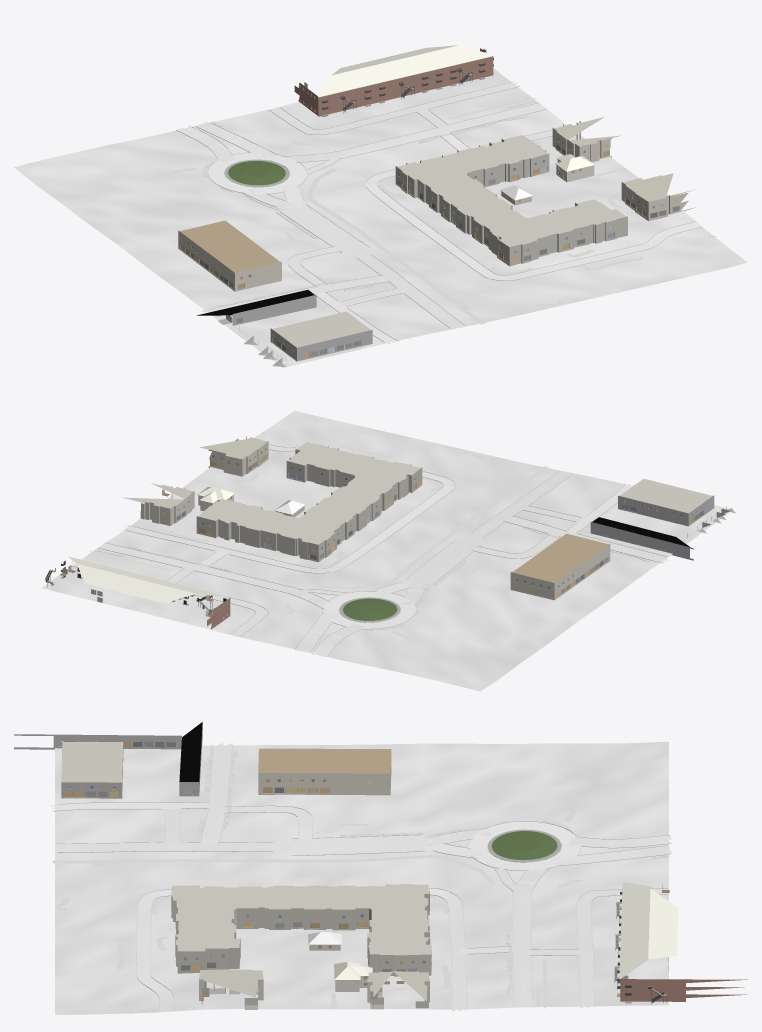
The picture shows the model from 3 angles, top to bottom: view 1: azimuth 30°, elevation 25°; view 2: azimuth 150°, elevation 25°; view 3: azimuth 270°, elevation 25°; orthographic projection. The views are drawn at different scales.
Parts seen in each view (by area): view 1: ground, roof_flat, wall_com, asphalt, concrete, roof, curb, walk, wall, detail, glass, glass_lit (+1 smaller); view 2: ground, roof_flat, wall_com, asphalt, concrete, roof, curb, walk, detail, glass_lit, glass, room (+1 smaller); view 3: ground, roof_flat, asphalt, wall_com, concrete, roof, walk, curb, detail, wall, glass_lit, room (+4 smaller).
Boxes of the visible parts, x1=… form: ground: x1=14, y1=68, x2=747, y2=367; roof_flat: x1=180, y1=117, x2=673, y2=347; wall_com: x1=178, y1=121, x2=695, y2=361; asphalt: x1=177, y1=103, x2=546, y2=328; concrete: x1=269, y1=83, x2=701, y2=344; roof: x1=318, y1=44, x2=594, y2=200; curb: x1=176, y1=81, x2=701, y2=342; walk: x1=171, y1=98, x2=716, y2=361; wall: x1=294, y1=56, x2=493, y2=116; detail: x1=180, y1=48, x2=678, y2=365; glass: x1=182, y1=88, x2=679, y2=356; glass_lit: x1=180, y1=85, x2=677, y2=358; ground: x1=41, y1=410, x2=733, y2=691; roof_flat: x1=123, y1=437, x2=712, y2=582; wall_com: x1=140, y1=436, x2=714, y2=600; asphalt: x1=98, y1=471, x2=667, y2=656; concrete: x1=71, y1=444, x2=634, y2=636; roof: x1=68, y1=487, x2=304, y2=603; curb: x1=71, y1=444, x2=665, y2=656; walk: x1=90, y1=431, x2=720, y2=648; detail: x1=45, y1=439, x2=730, y2=626; glass_lit: x1=164, y1=454, x2=693, y2=621; glass: x1=176, y1=448, x2=703, y2=626; room: x1=60, y1=438, x2=735, y2=616; ground: x1=55, y1=741, x2=668, y2=1014; roof_flat: x1=61, y1=722, x2=431, y2=1000; asphalt: x1=57, y1=743, x2=672, y2=1007; wall_com: x1=14, y1=724, x2=431, y2=1002; concrete: x1=50, y1=802, x2=668, y2=1011; roof: x1=308, y1=882, x2=678, y2=979; walk: x1=52, y1=745, x2=669, y2=1014; curb: x1=53, y1=743, x2=670, y2=1011; detail: x1=58, y1=741, x2=666, y2=1008; wall: x1=620, y1=979, x2=747, y2=1001; glass_lit: x1=53, y1=741, x2=417, y2=985; room: x1=73, y1=747, x2=669, y2=1009.
Bounding box in the file's own units: 273 × 18.19 × 299.
